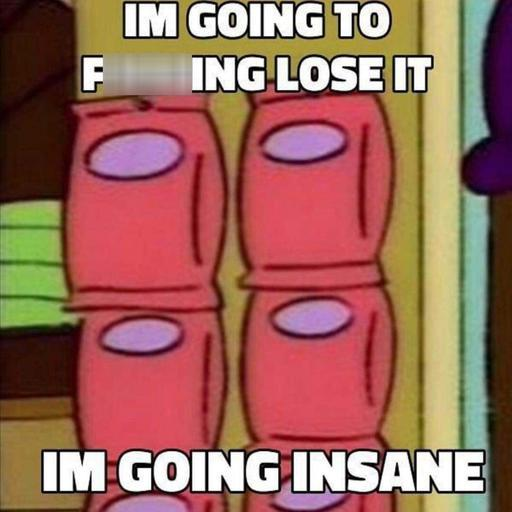Crewmate: (64, 93, 224, 314), (234, 79, 394, 300), (236, 299, 402, 448), (60, 307, 223, 450)
